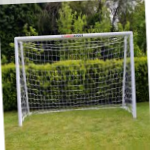goals: (12, 29, 140, 129)
